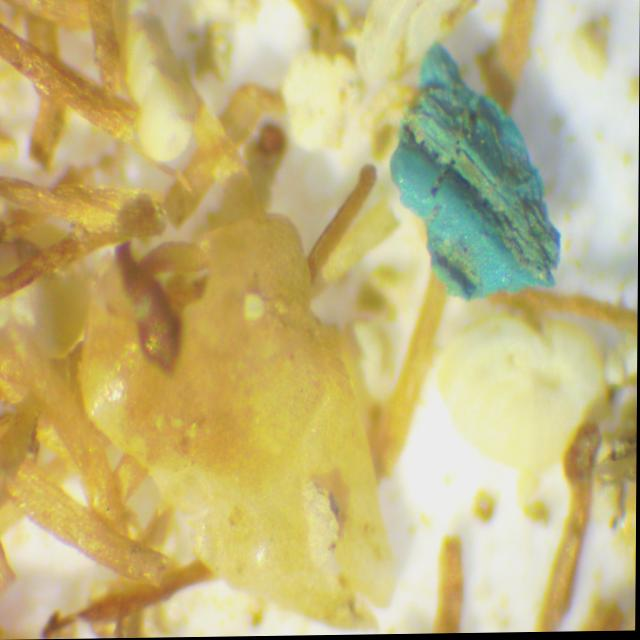microplastic: (390, 42, 558, 303)
